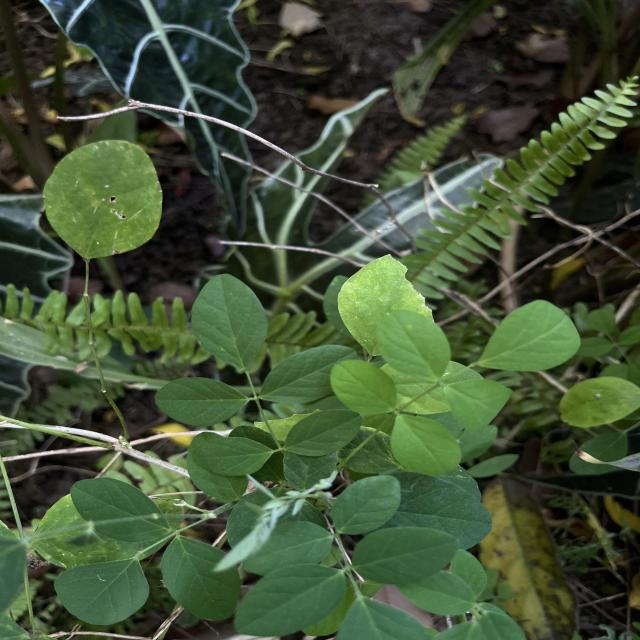Clitoria ternatea: (190, 272, 270, 372), (54, 557, 150, 626), (154, 376, 248, 428), (283, 410, 363, 458), (192, 437, 274, 478)
